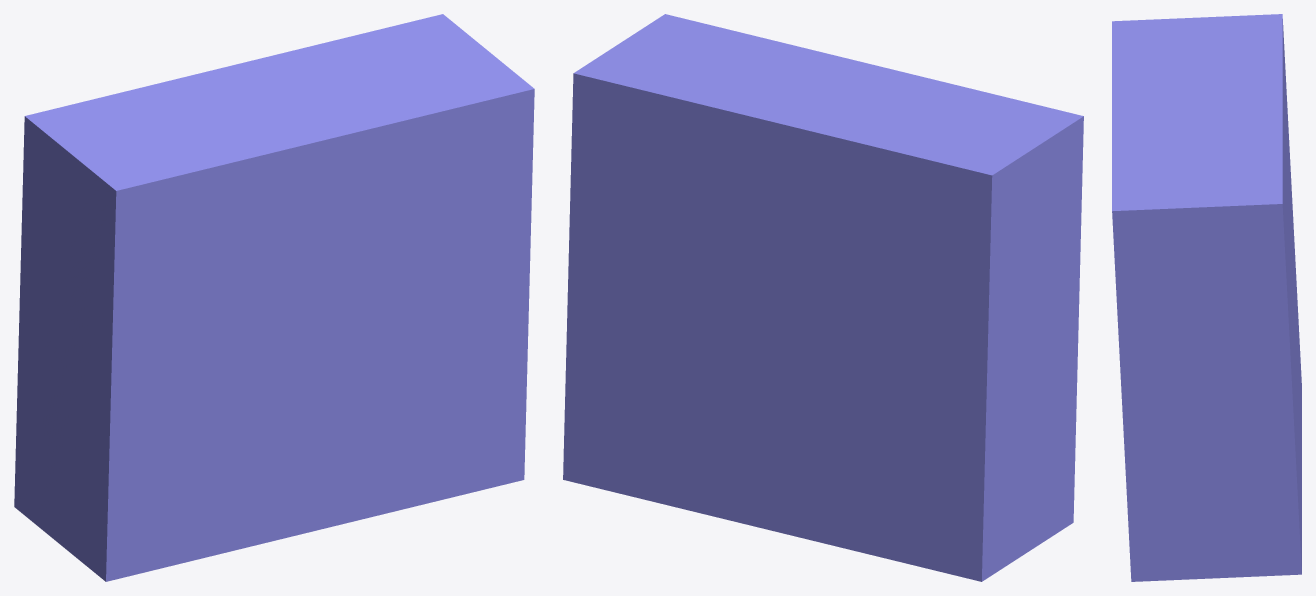
The model's file is original-6.obj.
The picture shows the model from 3 angles, left to right: view 1: azimuth 30°, elevation 25°; view 2: azimuth 150°, elevation 25°; view 3: azimuth 270°, elevation 25°; orthographic projection. The views are drawn at different scales.
Visible parts, largest first — view 1: mesh10/mesh10-geometry#mesh10-geometry; view 2: mesh10/mesh10-geometry#mesh10-geometry; view 3: mesh10/mesh10-geometry#mesh10-geometry.
Part boxes in pixels (x1,y1,x2,y2): mesh10/mesh10-geometry#mesh10-geometry: [14, 14, 534, 581]; mesh10/mesh10-geometry#mesh10-geometry: [563, 14, 1083, 581]; mesh10/mesh10-geometry#mesh10-geometry: [1112, 14, 1301, 581].
Size of the model in its own units: 0.00672 by 0.00624 by 0.00284.
